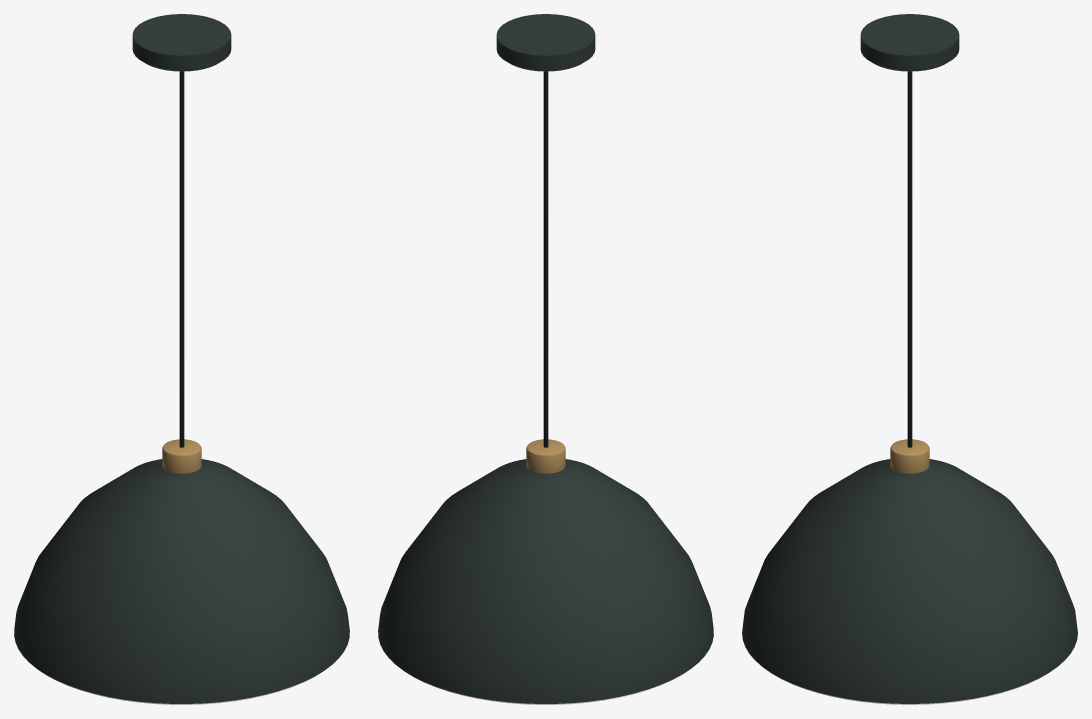
The model's file is pendant-balanced-37e50fbf94.glb.
3 views of the same model, side by side, from view 1: azimuth 30°, elevation 25°; view 2: azimuth 150°, elevation 25°; view 3: azimuth 270°, elevation 25° (orthographic).
Parts seen in each view (by area): view 1: pendant; view 2: pendant; view 3: pendant.
Part boxes in pixels (<box>): pendant: <box>14,14,349,704</box>; pendant: <box>378,14,713,704</box>; pendant: <box>742,14,1077,704</box>.
Bounding box in the file's own units: 0.34 × 0.67 × 0.34.
